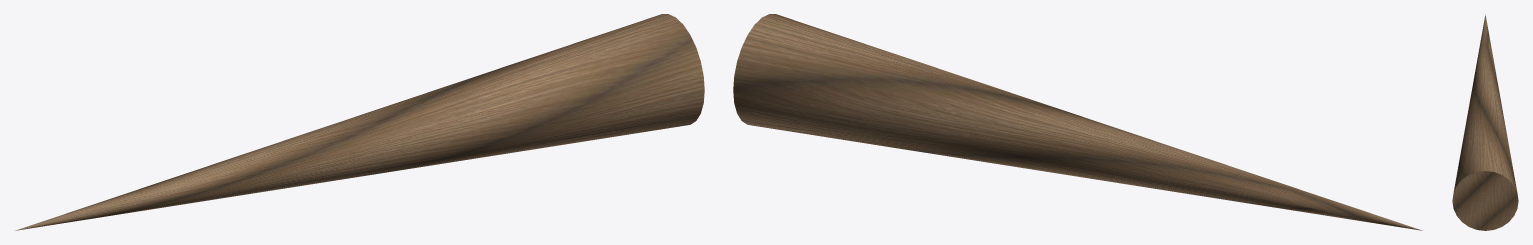
Rendered from lv 1 bala.FBX.
3 renders of one model, left to right at view 1: azimuth 30°, elevation 25°; view 2: azimuth 150°, elevation 25°; view 3: azimuth 270°, elevation 25°, orthographic. The views are drawn at different scales.
Visible parts, largest first — view 1: Cone001; view 2: Cone001; view 3: Cone001.
Boxes of the visible parts, left/top/right/bottom form: Cone001: left=15, top=14, right=704, bottom=230; Cone001: left=733, top=14, right=1422, bottom=230; Cone001: left=1452, top=14, right=1518, bottom=230.
Bounding box in the file's own units: 17.09 × 2.56 × 2.56.
